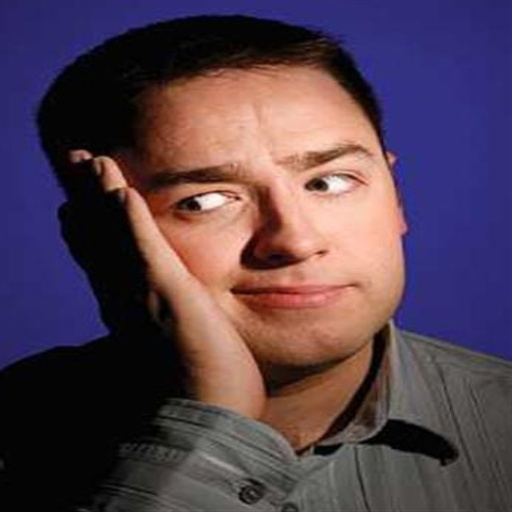hand: (115, 195, 295, 425)
